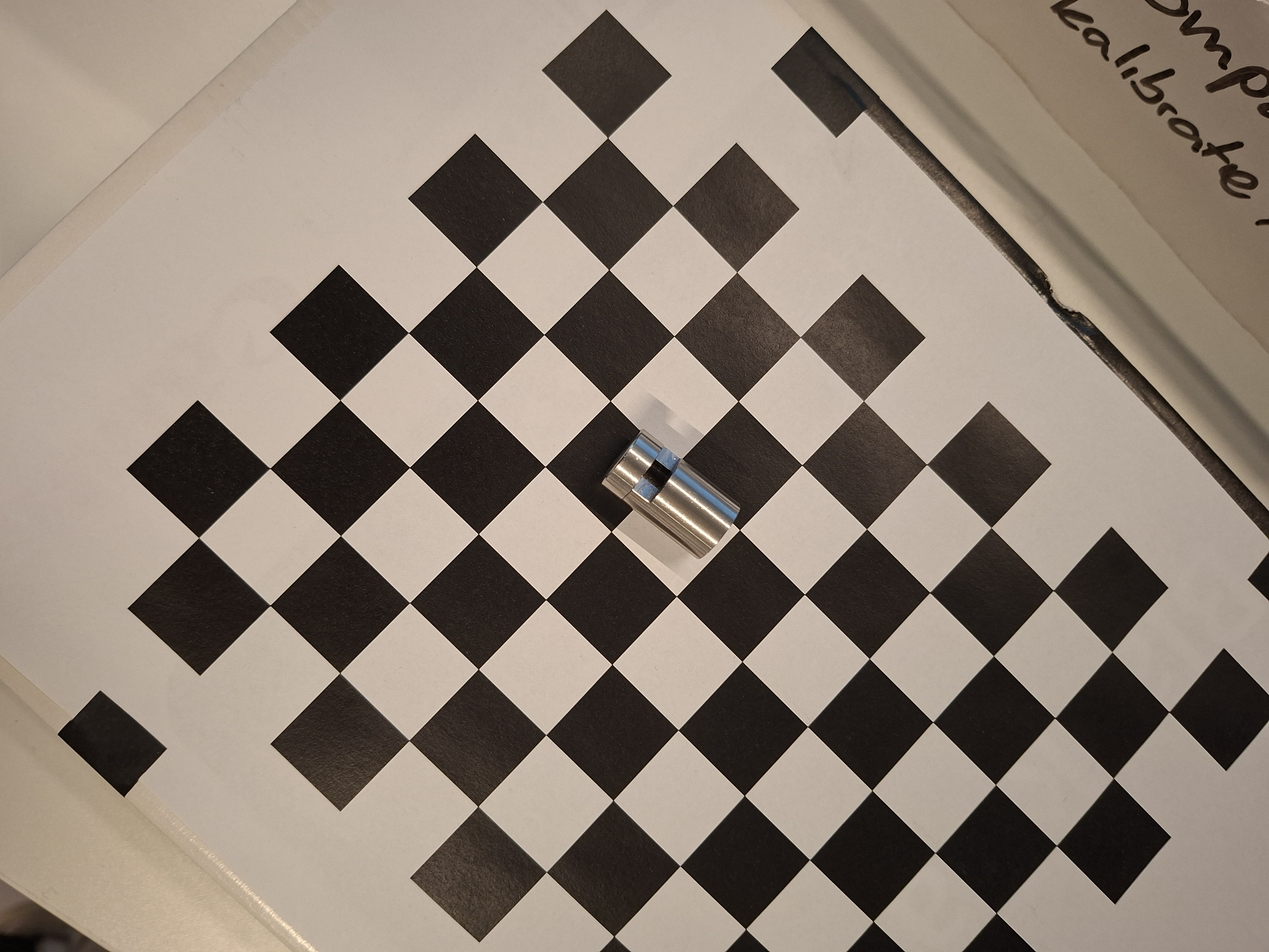barrel_nut: (587, 420, 754, 576)
